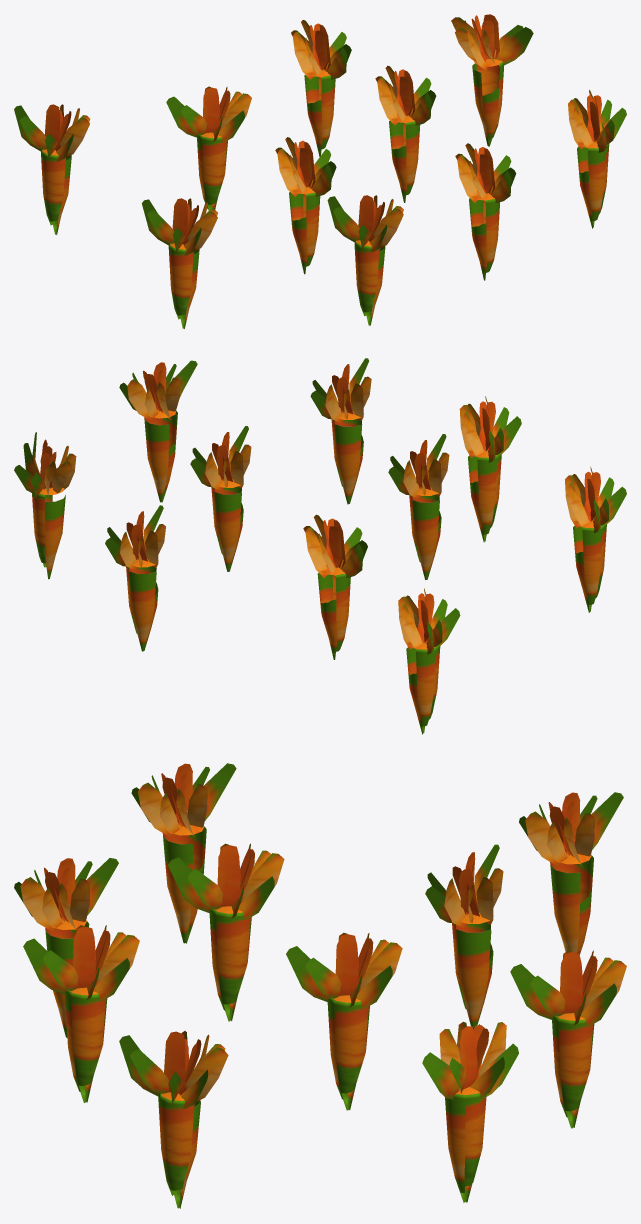
The model's file is carrots_stage_3.fbx.
The picture shows the model from 3 angles, top to bottom: view 1: azimuth 30°, elevation 25°; view 2: azimuth 150°, elevation 25°; view 3: azimuth 270°, elevation 25°; orthographic projection. The views are drawn at different scales.
Parts seen in each view (by area): view 1: Carrots_stage3; view 2: Carrots_stage3; view 3: Carrots_stage3.
Part boxes in pixels (<box>): Carrots_stage3: <box>14,14,626,328</box>; Carrots_stage3: <box>14,358,626,734</box>; Carrots_stage3: <box>14,763,626,1208</box>.
Bounding box in the file's own units: 424 × 139 × 357.
